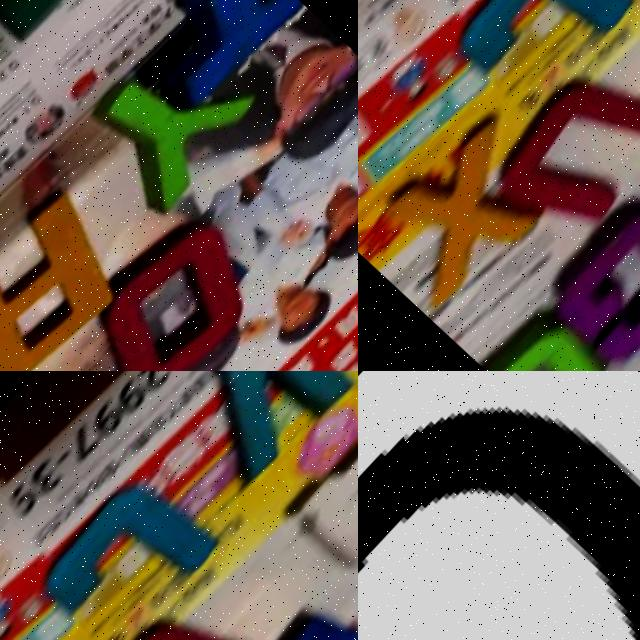G: (358, 371, 640, 640), (539, 192, 640, 371)
M: (0, 0, 164, 50)
O: (62, 208, 269, 371)
Q: (286, 399, 358, 592)
R: (0, 182, 140, 371)
T: (92, 0, 308, 135)
U: (472, 47, 640, 261), (57, 588, 264, 640)
V: (153, 371, 358, 505)
X: (358, 108, 560, 319)
Y: (68, 28, 260, 226)
